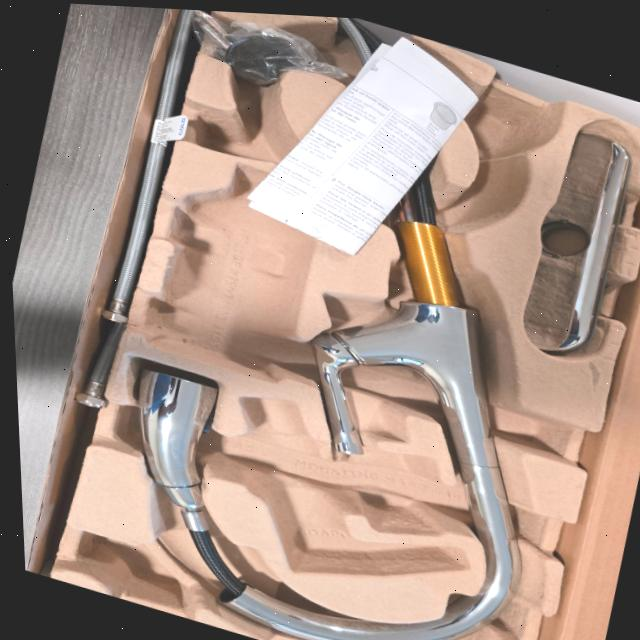1o: (135, 24, 520, 640)
2m: (241, 401, 467, 571)
3m: (144, 167, 312, 385)
4: (524, 132, 627, 353)
5m: (473, 104, 546, 154)
6m: (194, 91, 337, 193)
7: (192, 10, 352, 88)
8: (244, 35, 484, 254)
